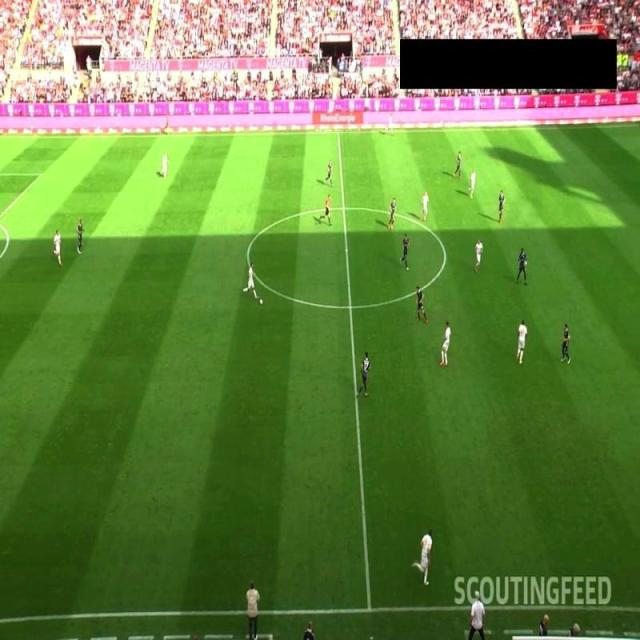bigarea_top_inner: (36, 168, 47, 178)
halfcircle_bottom: (345, 300, 356, 315)
halfcircle_top: (339, 202, 350, 213)
midline_bottom_intersection: (354, 590, 384, 630)
midline_top_intersection: (334, 126, 344, 138)
